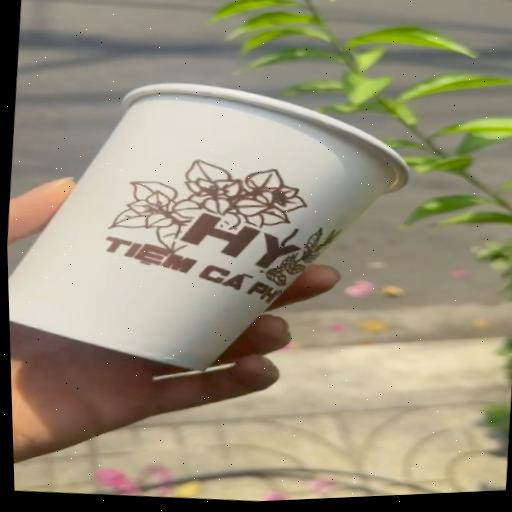Ly_giay: (8, 84, 407, 370)
